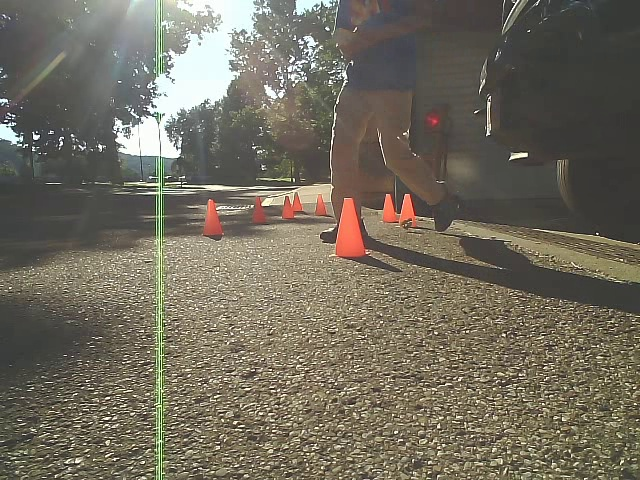red: (419, 104, 447, 183)
